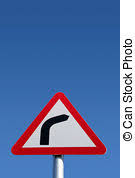Bend_to_right: (10, 90, 108, 157)
